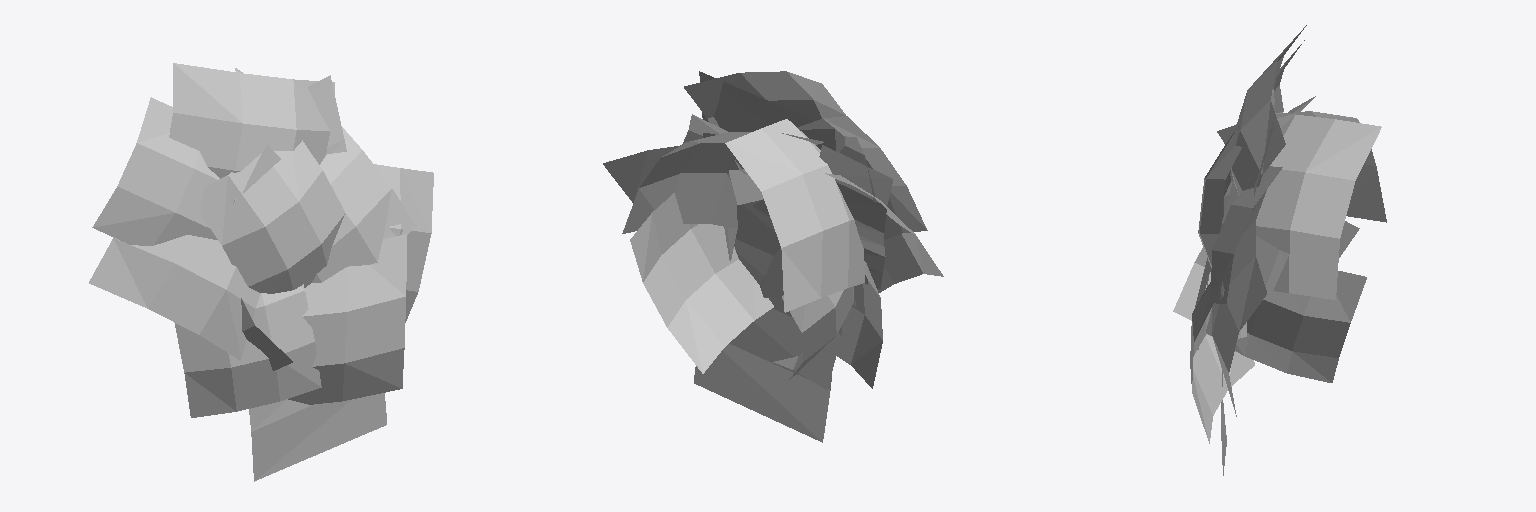
Rendered from bushes01_03_snow.obj.
3 views of the same model, side by side, from view 1: azimuth 30°, elevation 25°; view 2: azimuth 150°, elevation 25°; view 3: azimuth 270°, elevation 25° (orthographic).
Visible parts, largest first — view 1: bushes01_03_snow; view 2: bushes01_03_snow; view 3: bushes01_03_snow.
Part boxes in pixels (x1,y1,x2,y2): bushes01_03_snow: (89,63,433,481); bushes01_03_snow: (603,71,943,442); bushes01_03_snow: (1173,25,1386,475).
Bounding box in the file's own units: 83.59 × 92.66 × 45.12.